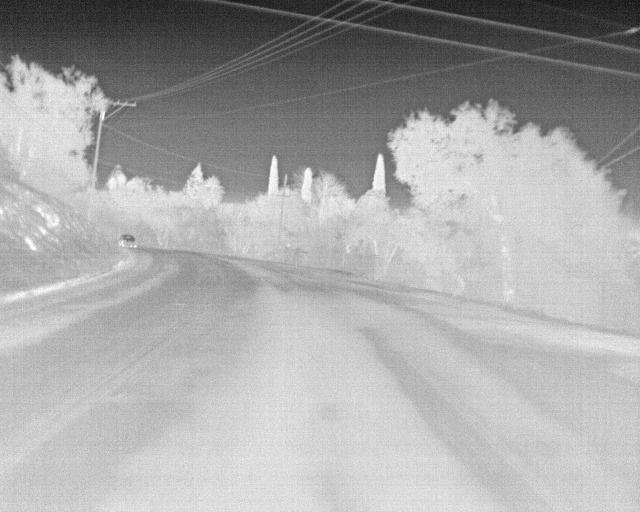car: (114, 230, 133, 249)
